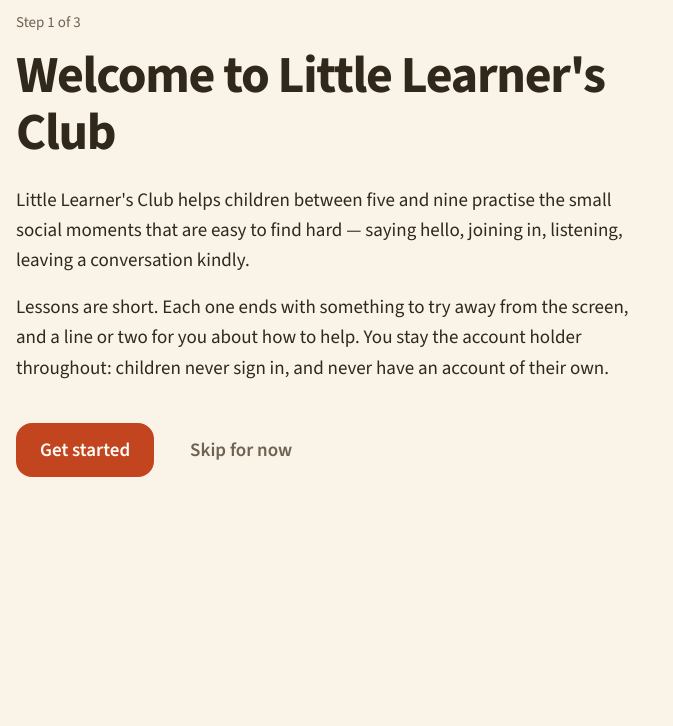
Test: the steps › states plainly what is never asked of a child
Click the button "Get started": (85, 450) [16,423,154,477]
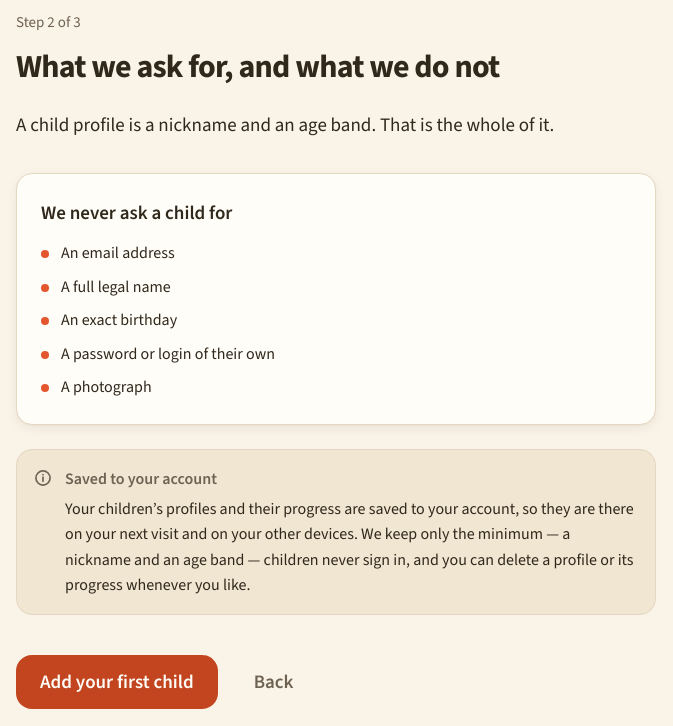
Check: the text "An email address" is shown, box [61,240,175,266]
Check: the text "A full legal name" is shown, box [61,274,171,299]
Check: the text "An exact birthday" is shown, box [61,307,177,333]
